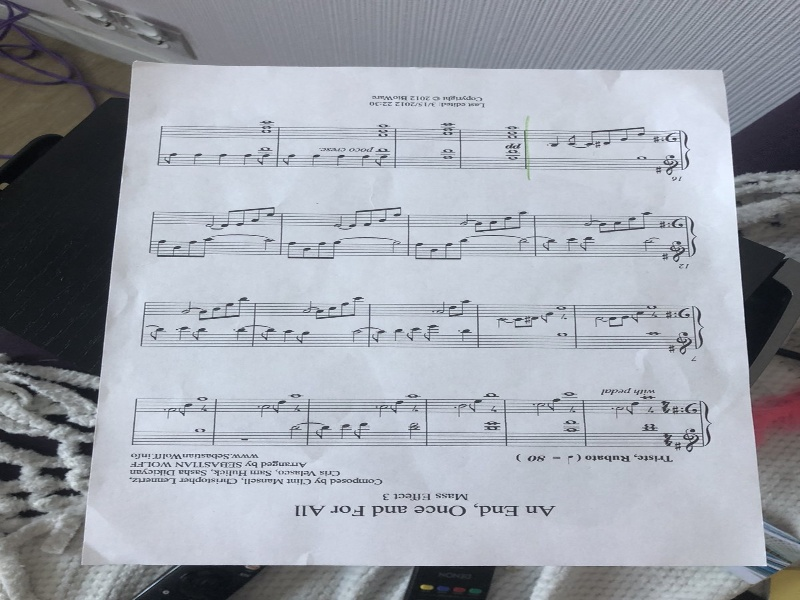document: (80, 69, 740, 565)
